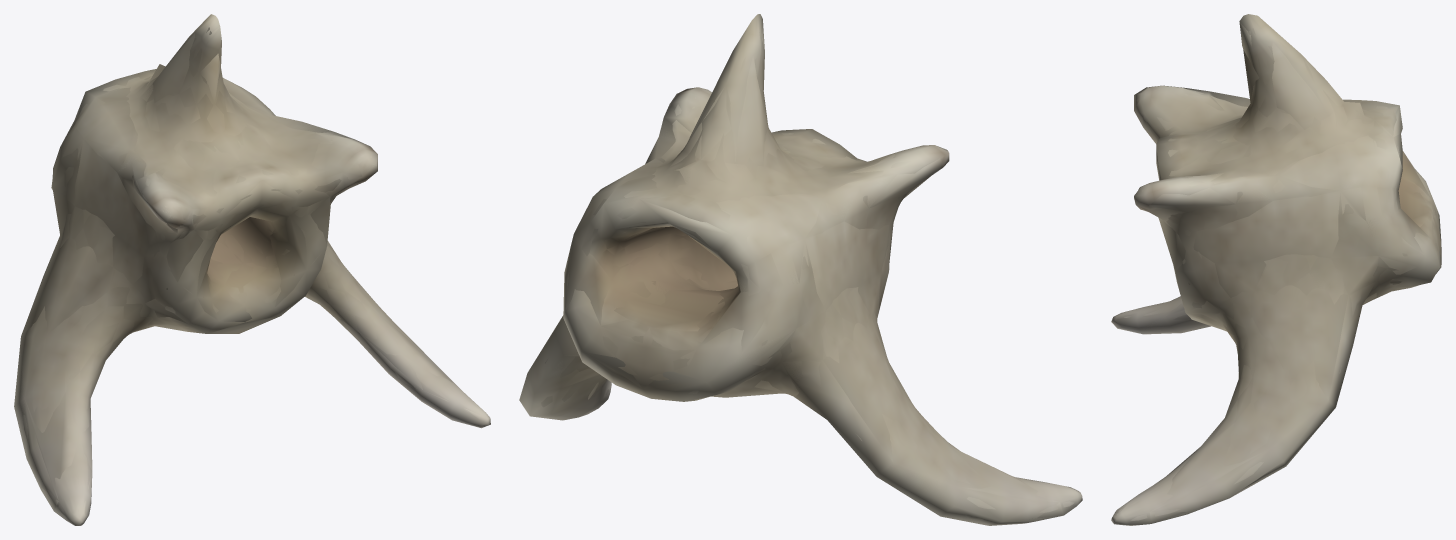
File: vertebrae lumbales 7.fbx
3 views of the same model, side by side, from view 1: azimuth 30°, elevation 25°; view 2: azimuth 150°, elevation 25°; view 3: azimuth 270°, elevation 25° (orthographic). The views are drawn at different scales.
Parts seen in each view (by area): view 1: vertebrae lumbales 7, vertebrae lumbales 7 low, vertebrae lumbales 7 high; view 2: vertebrae lumbales 7, vertebrae lumbales 7 low, vertebrae lumbales 7 high; view 3: vertebrae lumbales 7, vertebrae lumbales 7 low, vertebrae lumbales 7 high.
Boxes of the visible parts, bbox=[...] form: vertebrae lumbales 7: bbox=[14, 14, 490, 525]; vertebrae lumbales 7 low: bbox=[14, 27, 483, 515]; vertebrae lumbales 7 high: bbox=[23, 27, 486, 522]; vertebrae lumbales 7: bbox=[519, 14, 1082, 525]; vertebrae lumbales 7 low: bbox=[523, 21, 1063, 525]; vertebrae lumbales 7 high: bbox=[541, 31, 1077, 520]; vertebrae lumbales 7: bbox=[1111, 14, 1441, 525]; vertebrae lumbales 7 low: bbox=[1115, 22, 1441, 523]; vertebrae lumbales 7 high: bbox=[1114, 28, 1440, 520].
Bounding box in the file's own units: 2.09 × 1.96 × 1.42.
1 material, 1 textured.
